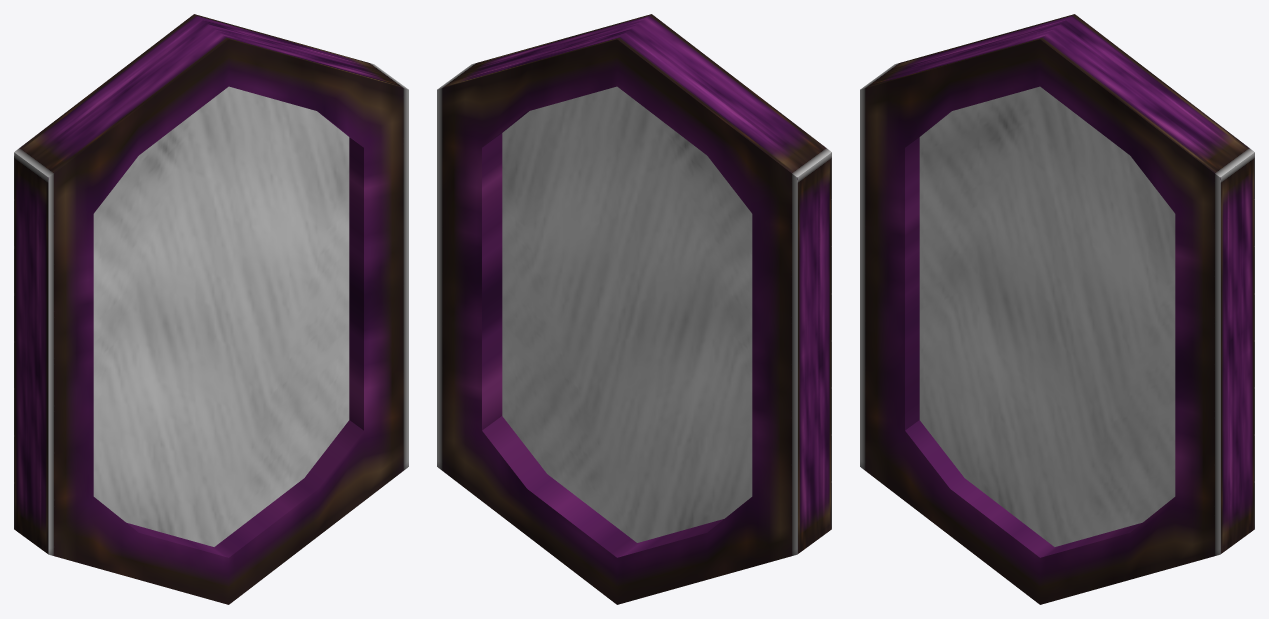
File: Mirror.obj
The picture shows the model from 3 angles, left to right: view 1: azimuth 30°, elevation 25°; view 2: azimuth 150°, elevation 25°; view 3: azimuth 330°, elevation 25°; orthographic projection.
Parts seen in each view (by area): view 1: pPlane1, pCube2; view 2: pCube2, pPlane1; view 3: pPlane1, pCube2.
Boxes of the visible parts, left/top/right/bottom form: pPlane1: left=93, top=86, right=349, bottom=546; pCube2: left=14, top=14, right=408, bottom=604; pCube2: left=437, top=14, right=831, bottom=604; pPlane1: left=502, top=86, right=752, bottom=542; pPlane1: left=919, top=86, right=1175, bottom=546; pCube2: left=860, top=14, right=1254, bottom=604.
Size of the model in its own units: 0.6 by 0.9 by 0.1.
